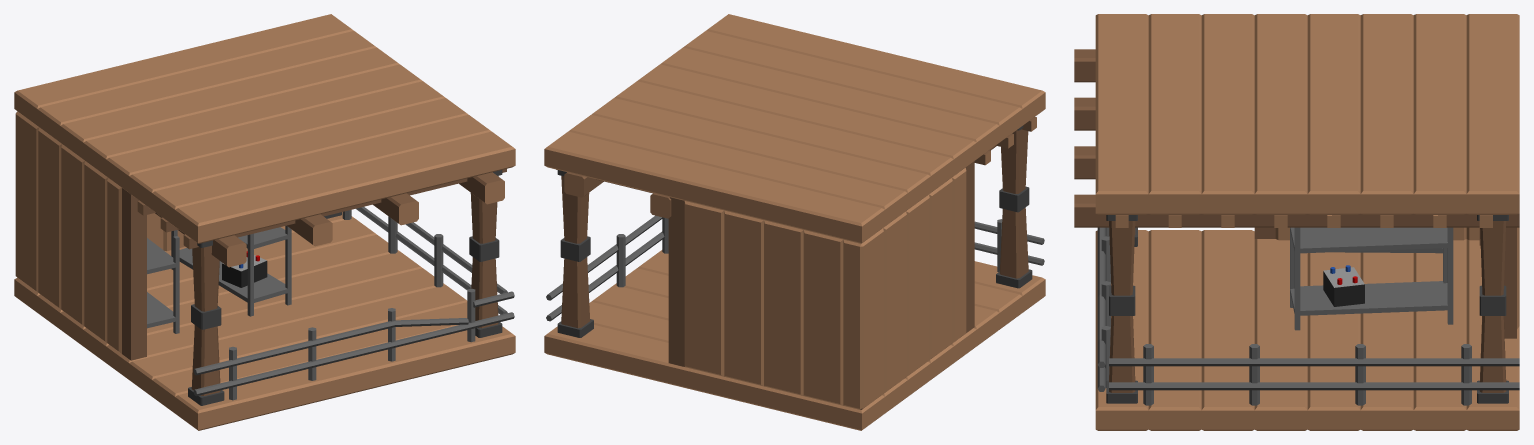
The model's file is BatteryRoom_Lvl_01_Corner.fbx.
3 views of the same model, side by side, from view 1: azimuth 30°, elevation 25°; view 2: azimuth 150°, elevation 25°; view 3: azimuth 270°, elevation 25° (orthographic). The views are drawn at different scales.
Visible parts, largest first — view 1: BatteryRoom_Lvl_01_Corner; view 2: BatteryRoom_Lvl_01_Corner; view 3: BatteryRoom_Lvl_01_Corner.
Boxes of the visible parts, left/top/right/bottom form: BatteryRoom_Lvl_01_Corner: left=14, top=14, right=515, bottom=430; BatteryRoom_Lvl_01_Corner: left=544, top=14, right=1045, bottom=430; BatteryRoom_Lvl_01_Corner: left=1074, top=14, right=1519, bottom=430.
Size of the model in its own units: 8 by 5 by 8.4.
